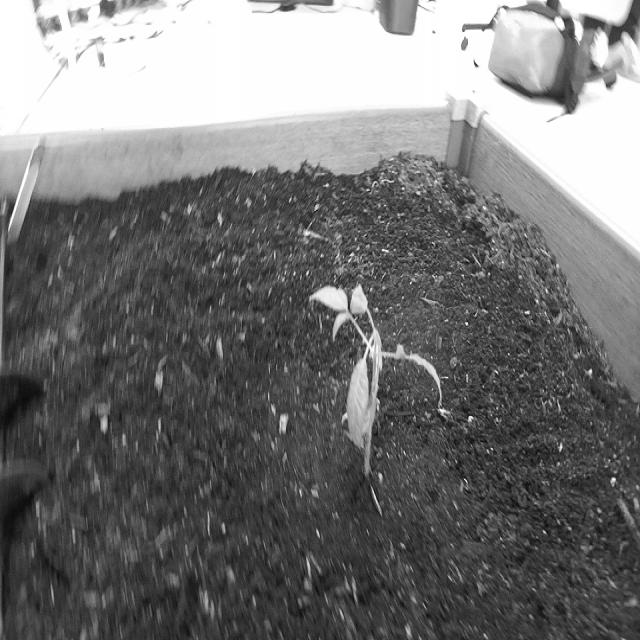Healthy: (303, 270, 462, 498)
